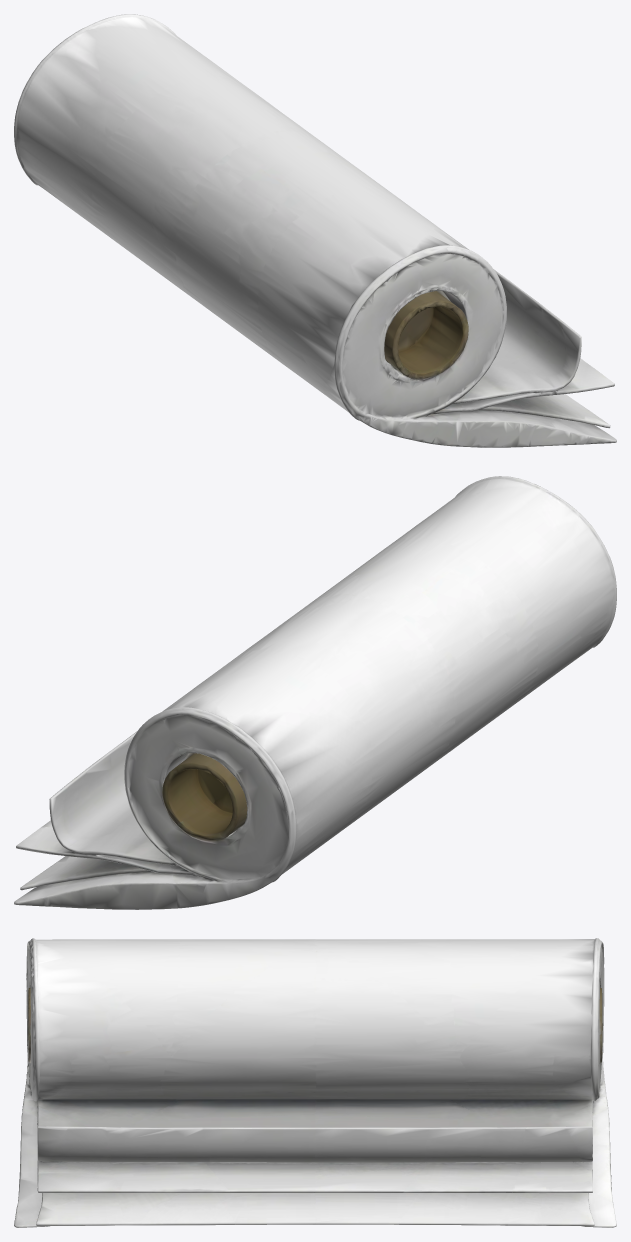
Rendered from yhfpopre-3210.glb.
3 views of the same model, one above another, from view 1: azimuth 30°, elevation 25°; view 2: azimuth 150°, elevation 25°; view 3: azimuth 270°, elevation 25° (orthographic). The views are drawn at different scales.
Visible parts, largest first — view 1: tripo_node_65eeb641-f4bc-4a5d-9528-de7cb4c17d62; view 2: tripo_node_65eeb641-f4bc-4a5d-9528-de7cb4c17d62; view 3: tripo_node_65eeb641-f4bc-4a5d-9528-de7cb4c17d62.
Boxes of the visible parts, x1,y1,x2,y2 form: tripo_node_65eeb641-f4bc-4a5d-9528-de7cb4c17d62: (14, 14, 616, 447); tripo_node_65eeb641-f4bc-4a5d-9528-de7cb4c17d62: (14, 476, 616, 909); tripo_node_65eeb641-f4bc-4a5d-9528-de7cb4c17d62: (14, 938, 616, 1227).
Size of the model in its own units: 0.4833 by 0.3727 by 0.9996.
1 material, 1 textured.
